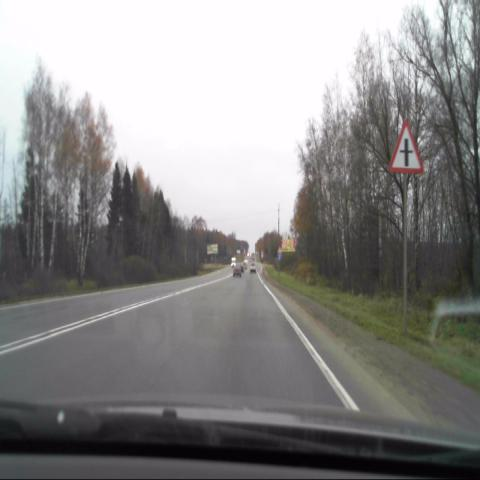2_3: (387, 119, 425, 178)
